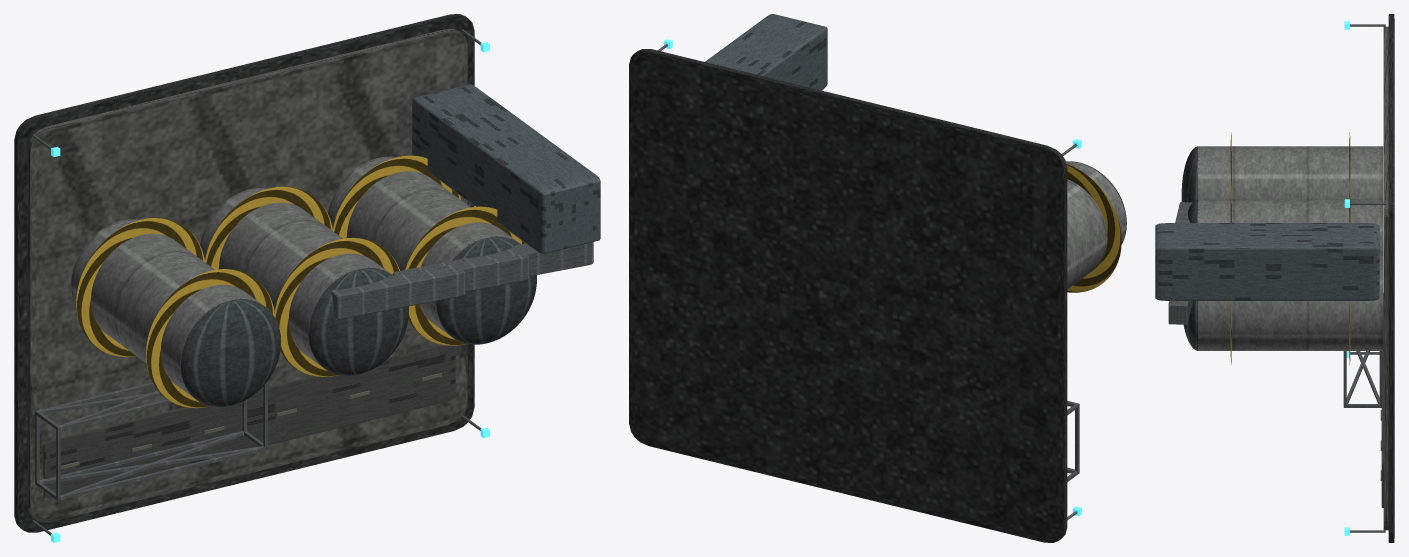
The model's file is b-10-resource-silo-lod0.glb.
3 views of the same model, side by side, from view 1: azimuth 30°, elevation 25°; view 2: azimuth 150°, elevation 25°; view 3: azimuth 270°, elevation 25° (orthographic). The views are drawn at different scales.
Visible parts, largest first — view 1: foundation_inner_pad, silo_truck_lane_road, main_bucket_elevator, foundation, primary_silo_0_vessel, primary_silo_1_vessel, primary_silo_2_vessel, silo_dome_0, silo_dome_1, silo_dome_2, top_conveyor_0, primary_silo_0_ring_high (+11 smaller); view 2: foundation, main_bucket_elevator, primary_silo_0_vessel, primary_silo_0_ring_high; view 3: main_bucket_elevator, primary_silo_0_vessel, primary_silo_2_vessel, primary_silo_1_vessel, foundation, foundation_inner_pad, silo_dome_0, top_conveyor_2, silo_truck_lane_road, silo_dome_2.
Part boxes in pixels (bbox=[...]): foundation_inner_pad: bbox=[27, 29, 467, 522]; silo_truck_lane_road: bbox=[43, 345, 455, 497]; main_bucket_elevator: bbox=[412, 84, 600, 253]; foundation: bbox=[14, 14, 474, 532]; primary_silo_0_vessel: bbox=[71, 219, 275, 403]; primary_silo_1_vessel: bbox=[200, 188, 391, 373]; primary_silo_2_vessel: bbox=[328, 156, 520, 343]; silo_dome_0: bbox=[180, 298, 281, 406]; silo_dome_1: bbox=[308, 267, 408, 375]; silo_dome_2: bbox=[436, 236, 536, 344]; top_conveyor_0: bbox=[331, 264, 465, 319]; primary_silo_0_ring_high: bbox=[146, 269, 274, 408]; foundation: bbox=[629, 49, 1067, 542]; main_bucket_elevator: bbox=[705, 14, 827, 90]; primary_silo_0_vessel: bbox=[1065, 161, 1126, 289]; primary_silo_0_ring_high: bbox=[1066, 164, 1121, 292]; main_bucket_elevator: bbox=[1155, 223, 1379, 300]; primary_silo_0_vessel: bbox=[1198, 146, 1383, 199]; primary_silo_2_vessel: bbox=[1198, 252, 1383, 350]; primary_silo_1_vessel: bbox=[1198, 199, 1383, 252]; foundation: bbox=[1388, 14, 1394, 542]; foundation_inner_pad: bbox=[1383, 26, 1388, 530]; silo_dome_0: bbox=[1181, 146, 1199, 202]; top_conveyor_2: bbox=[1168, 301, 1192, 324]; silo_truck_lane_road: bbox=[1381, 293, 1383, 507]; silo_dome_2: bbox=[1183, 301, 1198, 350].
Size of what is drawn, in the model's own units: 15 by 13 by 8.
Materials: 10 (10 with a texture image).
